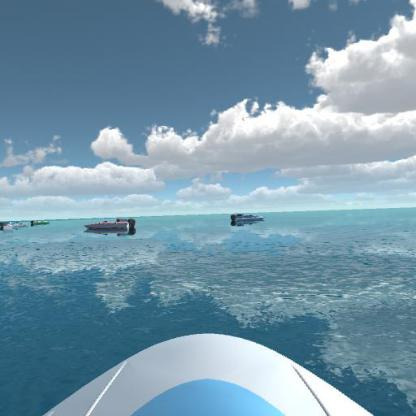usv0: (30, 215, 51, 228)
usv1: (228, 208, 266, 228), (0, 217, 25, 232)
usv3: (80, 215, 138, 243)
